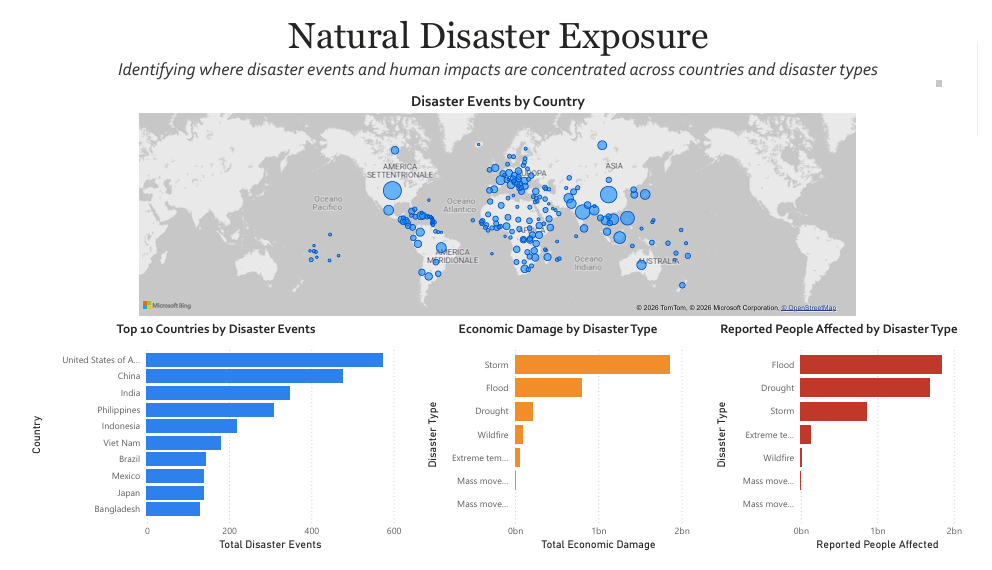

Layout of this report page (visuals, bound fields, positions):
{"tool":"powerbi","page":{"name":"Disaster_Exposure","canvas":[1280,720],"ordinal":2},"visuals":[{"type":"textbox","title":"Natural Disaster Exposure","box":[42.5,0,1195,101.7],"z":0},{"type":"map","title":"Disaster Events by Country","fields":{"Category":["DimCountry.Country"],"Size":["KPI.Total Disaster Events"]},"box":[157,101.8,966,305.3],"z":2000},{"type":"barChart","title":"Top 10 Countries by Disaster Events","fields":{"Y":["KPI.Total Disaster Events"],"Category":["DimCountry.Country"]},"box":[12.1,407.1,503.7,312.2],"z":3000},{"type":"barChart","title":"Economic Damage by Disaster Type","fields":{"Category":["FactDisaster.Disaster_Type"],"Y":["KPI.Total Economic Damage"]},"box":[539.1,407.1,362.3,312.2],"z":4000},{"type":"barChart","title":"Reported People Affected by Disaster Type","fields":{"Category":["FactDisaster.Disaster_Type"],"Y":["KPI.Reported People Affected"]},"box":[924.6,407.1,339.8,312.2],"z":5000}]}

Visuals, with their boxes in screenshot pixels (x1, y1, x2, y2), scaled from the page's 1280x720 canvas onto the 992x570 screenshot:
"Natural Disaster Exposure" textbox: bbox=[33, 0, 959, 81]
"Disaster Events by Country" map: bbox=[122, 81, 870, 322]
"Top 10 Countries by Disaster Events" barChart: bbox=[9, 322, 400, 569]
"Economic Damage by Disaster Type" barChart: bbox=[418, 322, 699, 569]
"Reported People Affected by Disaster Type" barChart: bbox=[717, 322, 980, 569]
